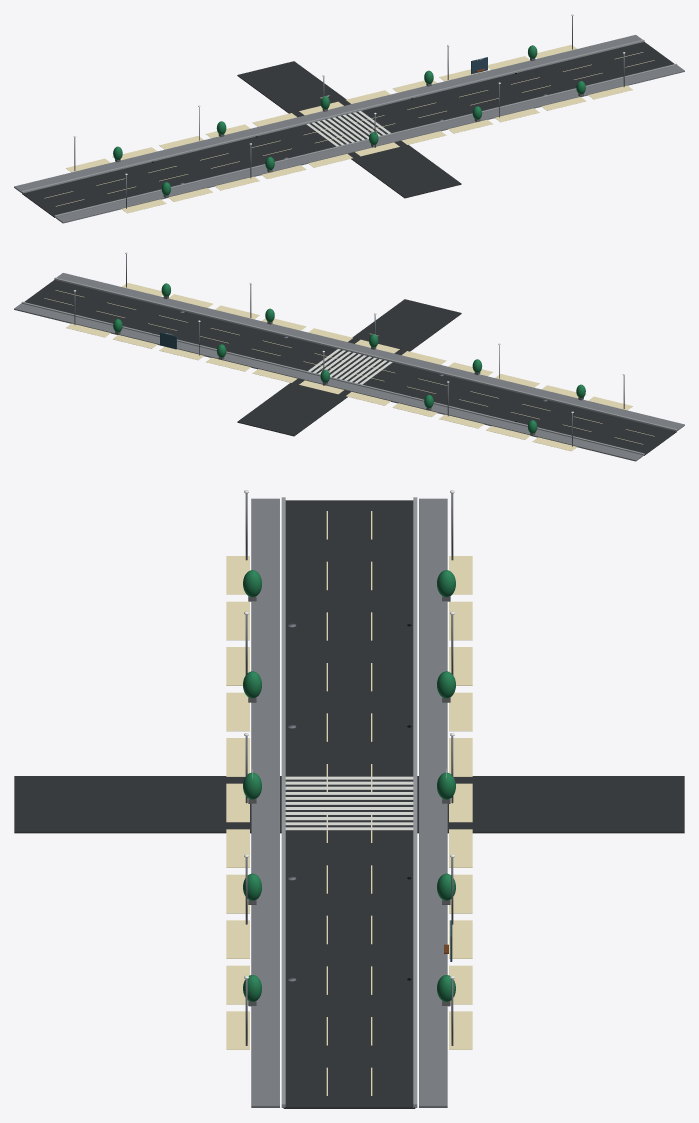
The model's file is BHC_63RD_STREET_SLICE.glb.
3 renders of one model, top to bottom at view 1: azimuth 30°, elevation 25°; view 2: azimuth 150°, elevation 25°; view 3: azimuth 270°, elevation 25°, orthographic. The views are drawn at different scales.
Parts seen in each view (by area): view 1: SM_BHC_63rd_Asphalt, SM_BHC_63rd_CrossRoad, SM_BHC_63rd_Sidewalk_S, SM_BHC_63rd_Sidewalk_N, SM_BHC_63rd_Curb.001, SM_BHC_63rd_Curb; view 2: SM_BHC_63rd_Asphalt, SM_BHC_63rd_CrossRoad, SM_BHC_63rd_Sidewalk_N, SM_BHC_63rd_Sidewalk_S, SM_BHC_63rd_Curb, SM_BHC_63rd_Curb.001; view 3: SM_BHC_63rd_Asphalt, SM_BHC_63rd_CrossRoad, SM_BHC_63rd_Sidewalk_S, SM_BHC_63rd_Sidewalk_N, SM_BHC_63rd_Curb, SM_BHC_63rd_Curb.001, SM_BHC_63rd_ParkingBay_N.003, SM_BHC_63rd_ParkingBay_S.003, SM_BHC_63rd_ParkingBay_S.008, SM_BHC_63rd_ParkingBay_N.001, SM_BHC_63rd_ParkingBay_S.001, SM_BHC_63rd_ParkingBay_N.006 (+1 smaller).
Boxes of the visible parts, x1,y1,x2,y2 form: SM_BHC_63rd_Asphalt: (22,42,674,217); SM_BHC_63rd_CrossRoad: (237,61,461,198); SM_BHC_63rd_Sidewalk_S: (56,65,684,223); SM_BHC_63rd_Sidewalk_N: (14,35,642,192); SM_BHC_63rd_Curb.001: (21,39,644,193); SM_BHC_63rd_Curb: (54,63,677,217); SM_BHC_63rd_Asphalt: (24,280,676,455); SM_BHC_63rd_CrossRoad: (237,299,461,436); SM_BHC_63rd_Sidewalk_N: (14,303,642,461); SM_BHC_63rd_Sidewalk_S: (56,273,684,430); SM_BHC_63rd_Curb: (54,277,677,431); SM_BHC_63rd_Curb.001: (21,301,644,455); SM_BHC_63rd_Asphalt: (283,500,415,1108); SM_BHC_63rd_CrossRoad: (14,776,684,833); SM_BHC_63rd_Sidewalk_S: (251,498,279,1107); SM_BHC_63rd_Sidewalk_N: (419,498,447,1107); SM_BHC_63rd_Curb: (281,497,285,1107); SM_BHC_63rd_Curb.001: (413,497,417,1107); SM_BHC_63rd_ParkingBay_N.003: (449,692,472,731); SM_BHC_63rd_ParkingBay_S.003: (226,692,249,731); SM_BHC_63rd_ParkingBay_S.008: (226,920,249,958); SM_BHC_63rd_ParkingBay_N.001: (449,601,472,640); SM_BHC_63rd_ParkingBay_S.001: (226,601,249,640); SM_BHC_63rd_ParkingBay_N.006: (449,829,472,867).
Size of the model in its own units: 120 by 6.65 by 56.
